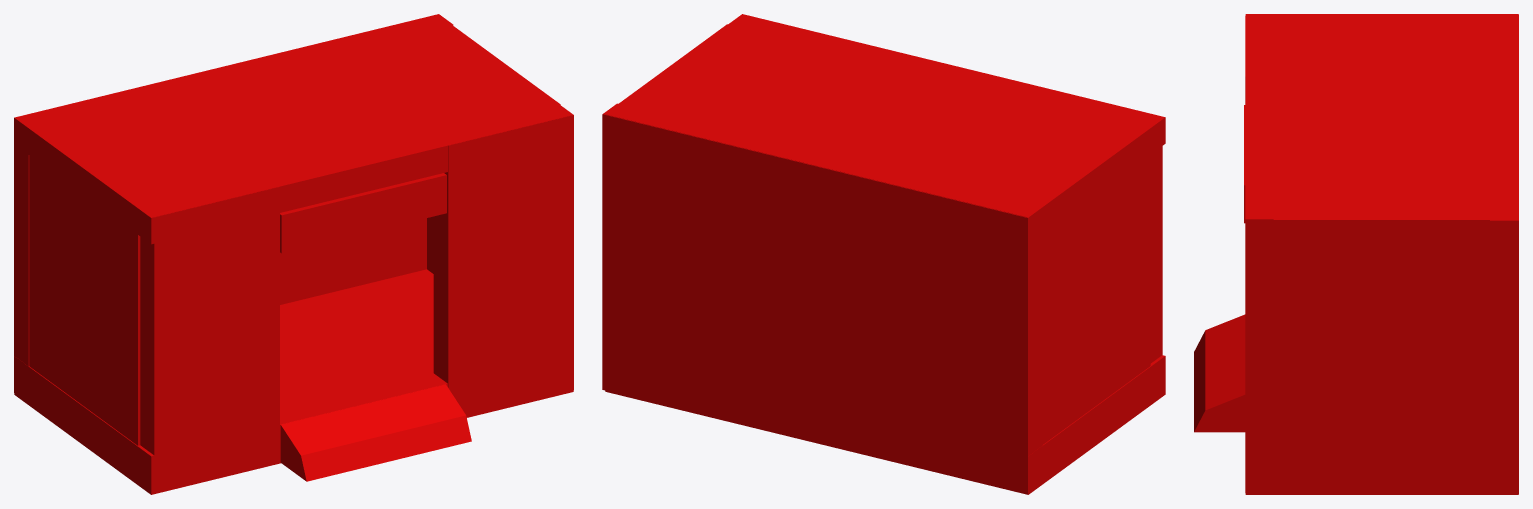
Rendered from SM_Bld_Mexican_04_Collision.fbx.
The picture shows the model from 3 angles, left to right: view 1: azimuth 30°, elevation 25°; view 2: azimuth 150°, elevation 25°; view 3: azimuth 270°, elevation 25°; orthographic projection.
Visible parts, largest first — view 1: SM_Bld_Mexican_04_Collision; view 2: SM_Bld_Mexican_04_Collision; view 3: SM_Bld_Mexican_04_Collision.
Boxes of the visible parts, x1=… form: SM_Bld_Mexican_04_Collision: x1=14, y1=14, x2=573, y2=494; SM_Bld_Mexican_04_Collision: x1=602, y1=14, x2=1165, y2=494; SM_Bld_Mexican_04_Collision: x1=1194, y1=14, x2=1518, y2=494.
Bounding box in the file's own units: 559 × 348 × 372.
